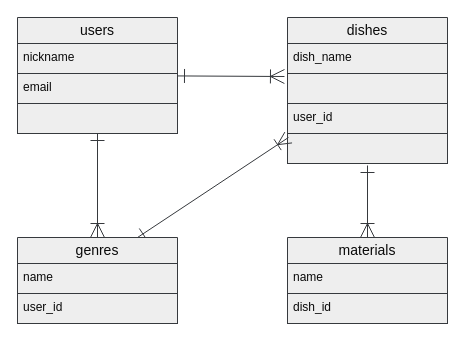
The diagram is 465 pixels wide and 344 high, and some of its shapes have lost their labels. Here are the shapes that lost their labels. From the top down, the centre of each, then its label:
At (367,88): "url".
At (97,118): "password".
At (367,148): "genre_id".
